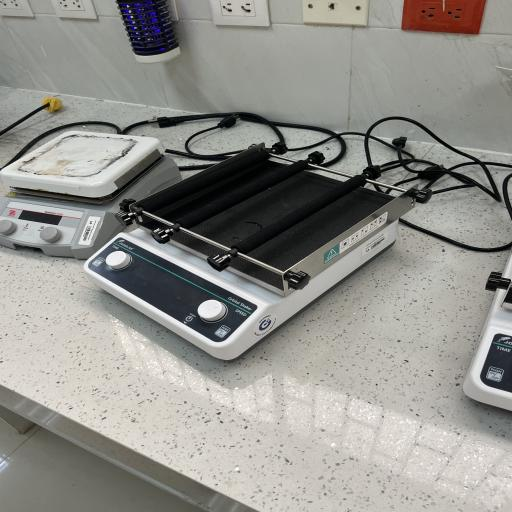Agitador_Orbital_DLAB: (72, 138, 438, 372)
